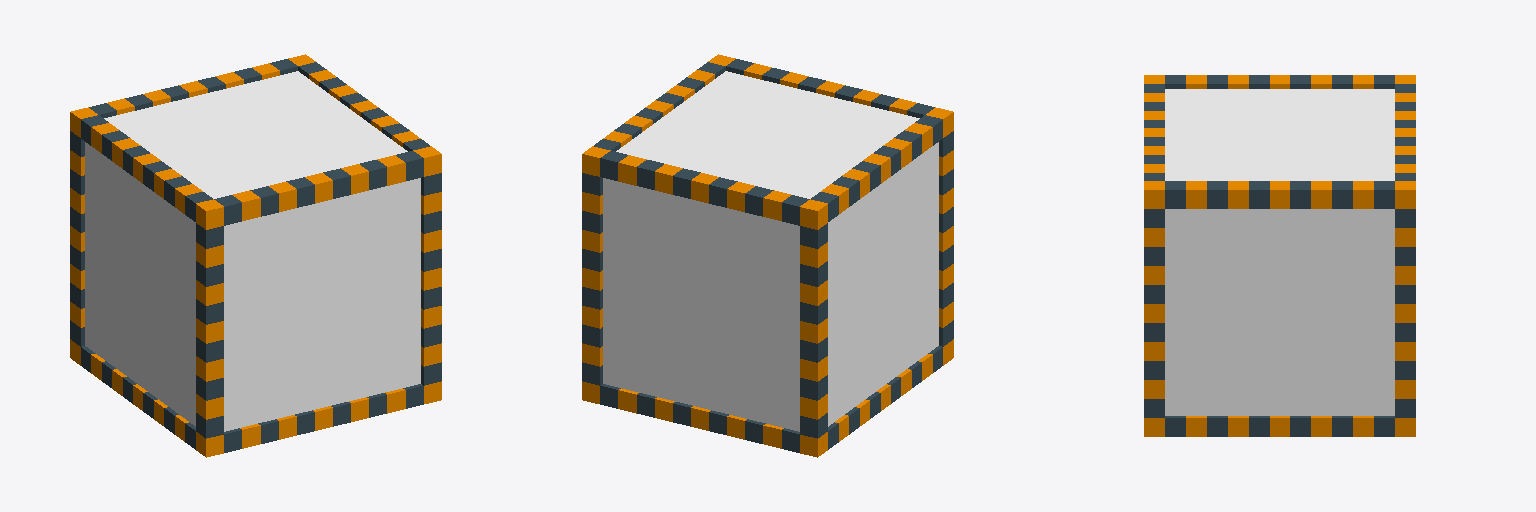
File: debug_cube.obj
The picture shows the model from 3 angles: view 1: azimuth 30°, elevation 25°; view 2: azimuth 150°, elevation 25°; view 3: azimuth 270°, elevation 25°; orthographic projection.
Parts seen in each view (by area): view 1: group[number redacted], group[number redacted], group[number redacted], group[number redacted], group[number redacted], group[number redacted], group[number redacted], group[number redacted], group[number redacted], group[number redacted], group[number redacted], group[number redacted] (+14 smaller); view 2: group[number redacted], group[number redacted], group[number redacted], group[number redacted], group[number redacted], group[number redacted], group[number redacted], group[number redacted], group[number redacted], group[number redacted], group[number redacted], group[number redacted] (+14 smaller); view 3: group[number redacted], group[number redacted], group[number redacted], group[number redacted], group[number redacted], group[number redacted], group[number redacted], group[number redacted], group[number redacted], group[number redacted], group[number redacted], group[number redacted] (+2 smaller).
Part boxes in pixels (x1,y1,x2,y2): group[number redacted]: (85,71,420,431); group[number redacted]: (233,190,260,220); group[number redacted]: (377,155,405,185); group[number redacted]: (196,223,223,248); group[number redacted]: (196,261,223,286); group[number redacted]: (196,280,223,305); group[number redacted]: (196,356,223,381); group[number redacted]: (196,394,223,419); group[number redacted]: (196,242,223,267); group[number redacted]: (196,337,223,362); group[number redacted]: (196,375,223,400); group[number redacted]: (196,318,223,343); group[number redacted]: (603,71,938,431); group[number redacted]: (800,199,827,229); group[number redacted]: (763,190,790,220); group[number redacted]: (618,155,646,185); group[number redacted]: (800,280,827,305); group[number redacted]: (800,394,827,419); group[number redacted]: (800,356,827,381); group[number redacted]: (800,261,827,286); group[number redacted]: (800,223,827,248); group[number redacted]: (800,375,827,400); group[number redacted]: (800,337,827,362); group[number redacted]: (800,242,827,267); group[number redacted]: (1165,89,1394,415); group[number redacted]: (1165,181,1185,208); group[number redacted]: (1186,181,1206,208); group[number redacted]: (1207,181,1227,208); group[number redacted]: (1228,181,1248,208); group[number redacted]: (1249,181,1269,208); group[number redacted]: (1290,181,1310,208); group[number redacted]: (1374,181,1394,208); group[number redacted]: (1332,181,1352,208); group[number redacted]: (1353,181,1373,208); group[number redacted]: (1395,181,1415,208); group[number redacted]: (1311,181,1331,208).
Bounding box in the file's own units: 1.04 × 1.04 × 1.04.